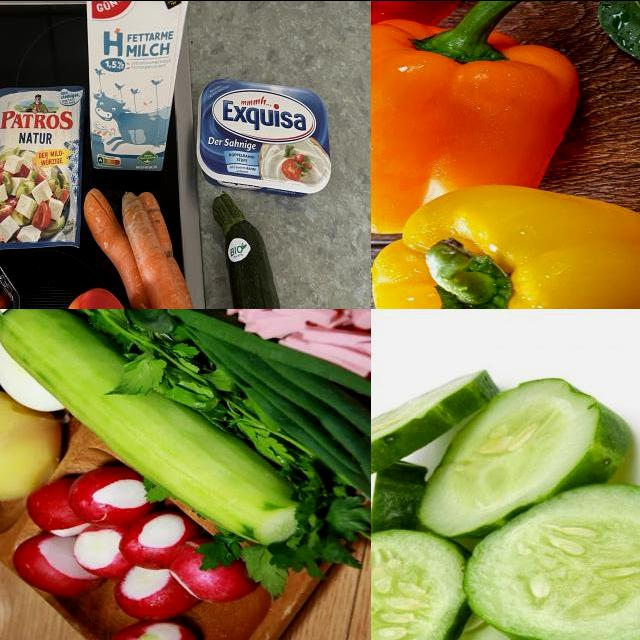bell_pepper: (372, 1, 600, 251), (372, 188, 640, 309)
carrot: (117, 181, 205, 309)
cucumber: (417, 380, 640, 528), (458, 476, 640, 640), (372, 370, 498, 477), (372, 531, 462, 640)
potato: (1, 395, 49, 504)
zucchini: (202, 187, 309, 309)
